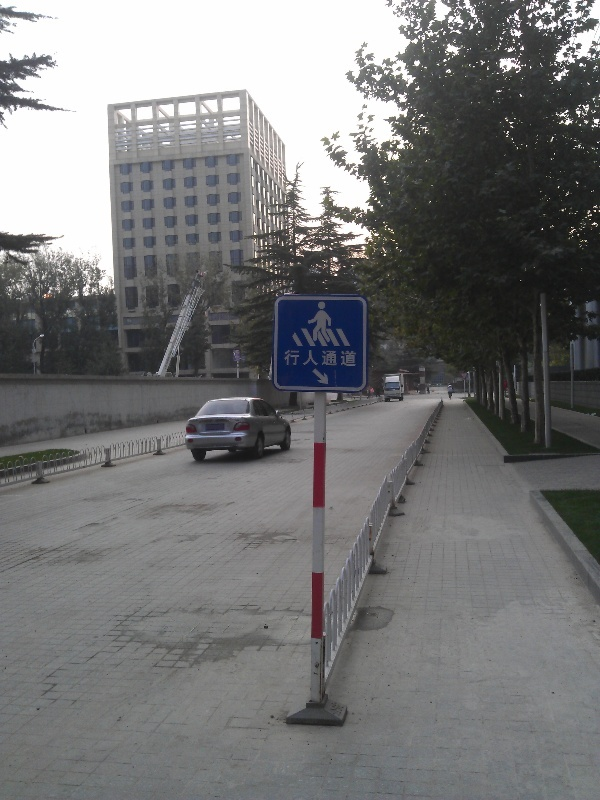text: (289, 350, 304, 367), (305, 350, 320, 367), (321, 350, 336, 367), (337, 350, 352, 367), (353, 350, 357, 367), (285, 350, 288, 367)
